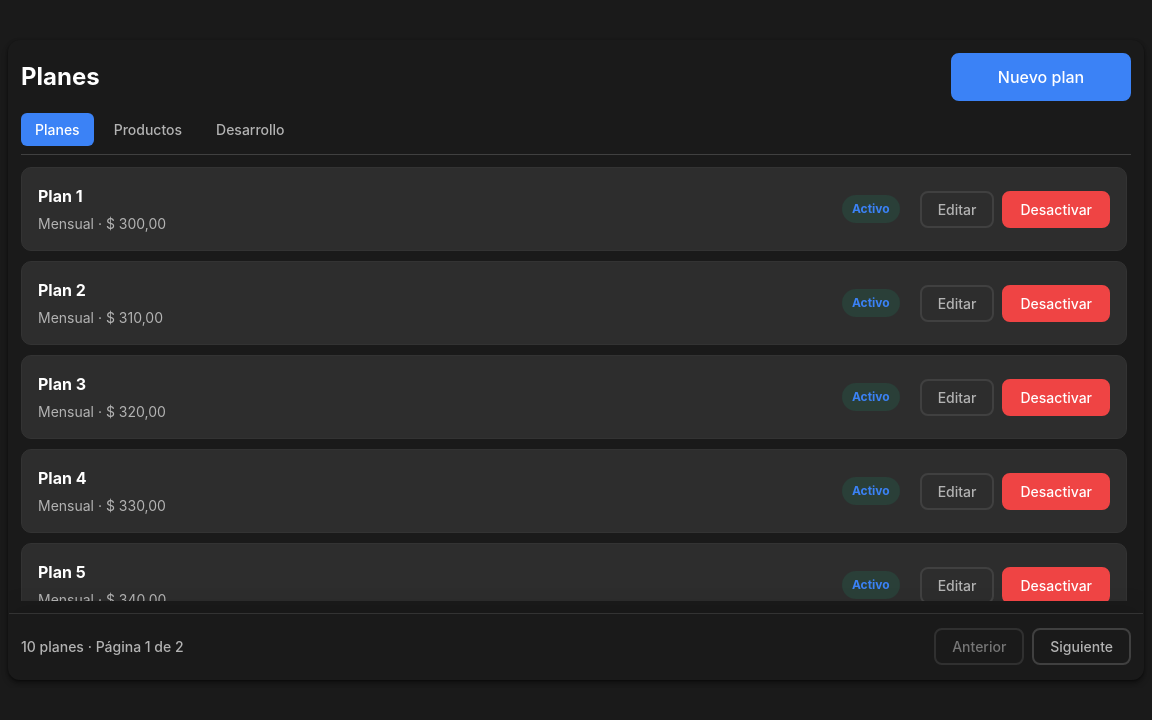
Test: muestra solamente planes y permite abrir el diálogo de creación
Check: the heading "Planes" is shown, box [21,63,100,91]
Check: the tab "Desarrollo" is shown, box [202,113,298,146]
Click the button "Nuevo plan": (1041, 77) [951,53,1131,101]
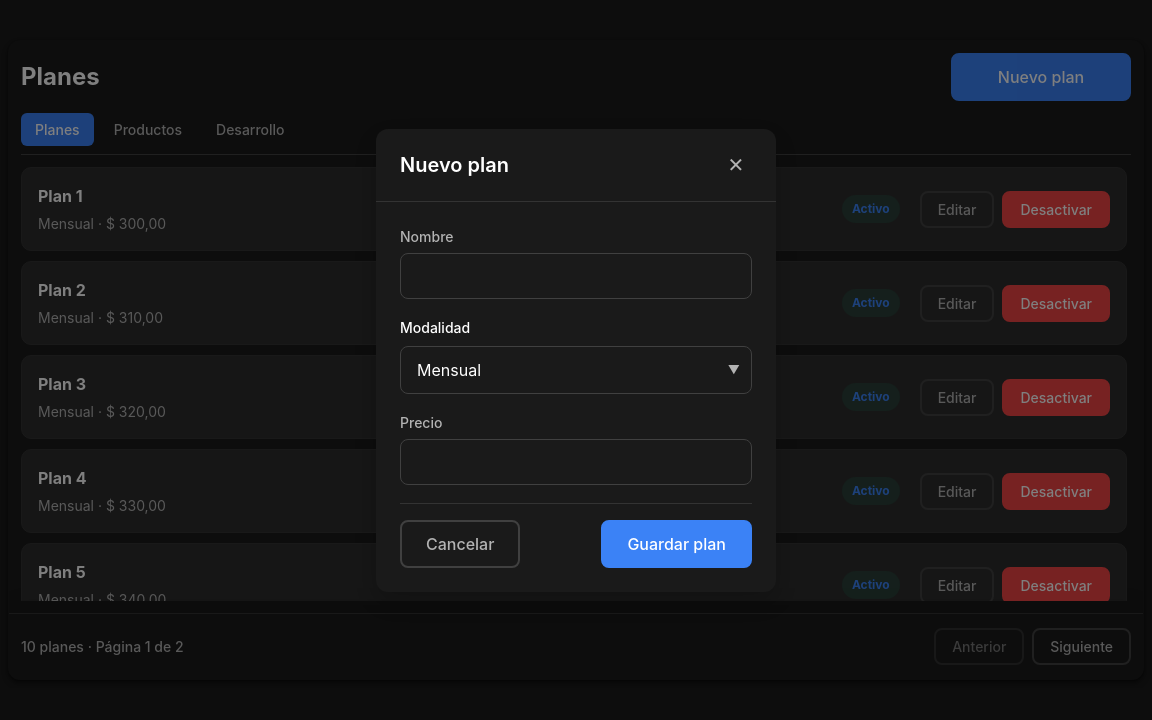
Check: the heading "Nuevo plan" is shown, box [400,150,509,180]
Check: the field labelled "Nombre" is shown, box [400,252,752,298]
Check: the dropdown labelled "Modalidad" is shown, box [400,346,752,394]
